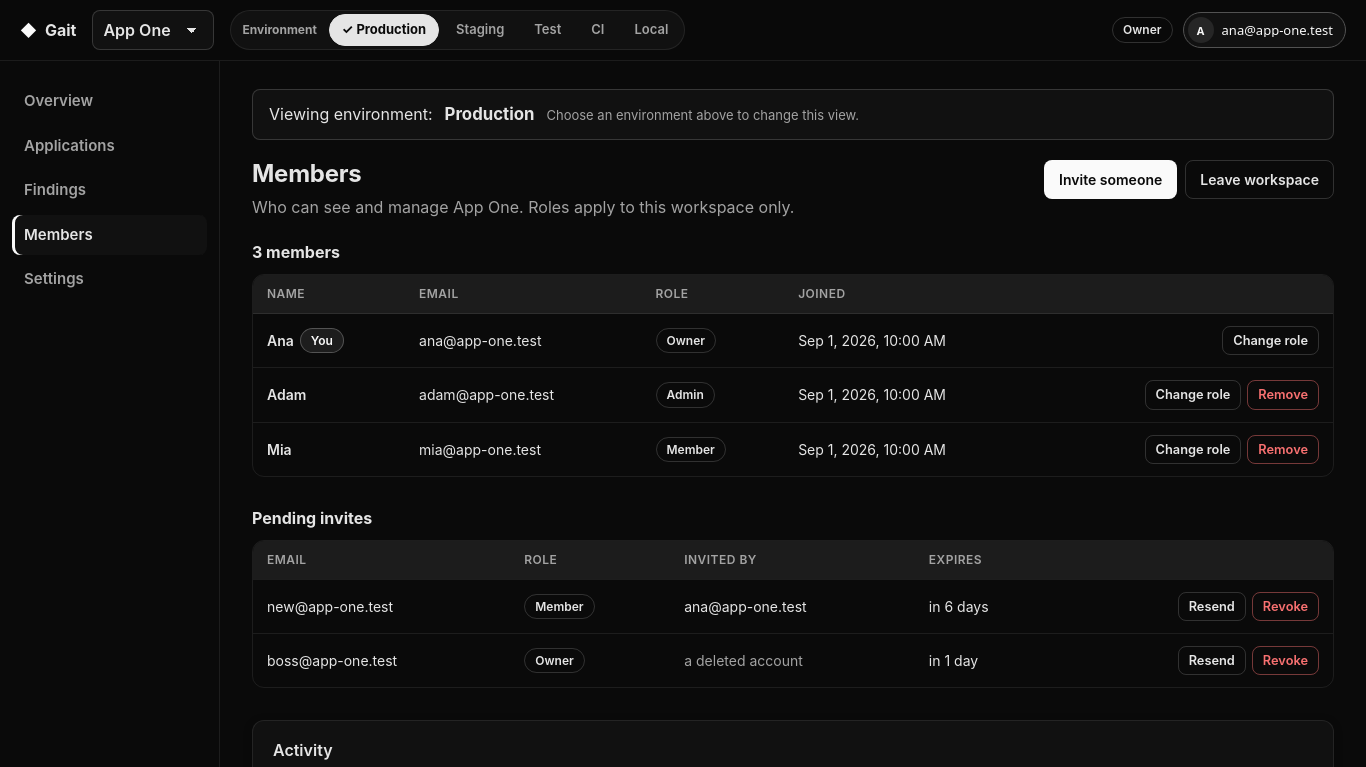
Test: F4 leaving › the last Owner is told why they can't leave, and nothing is sent
Click the button "Leave workspace" at [1260, 180], box [1185,160,1334,199]
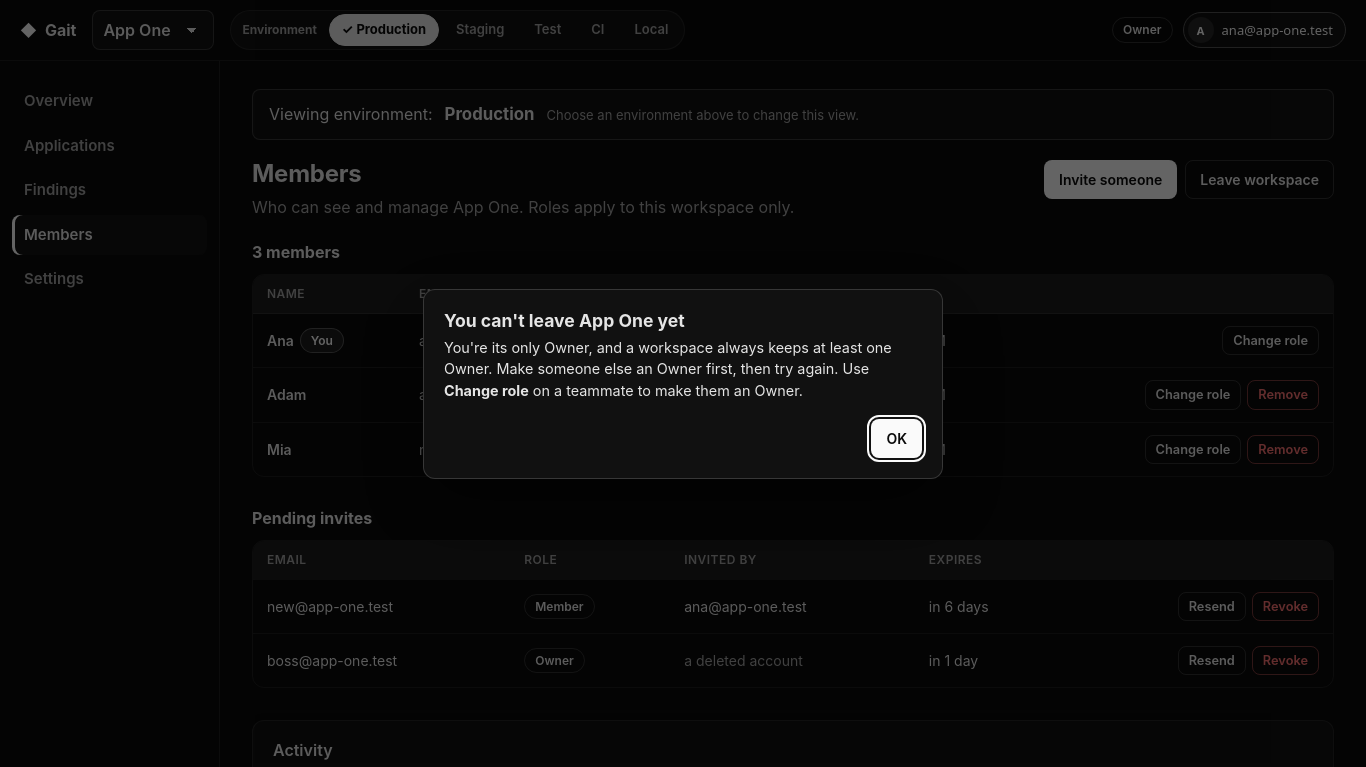
Expected: the dialog "You can't leave App One yet" shows "You're its only Owner", [444,339,626,356]
